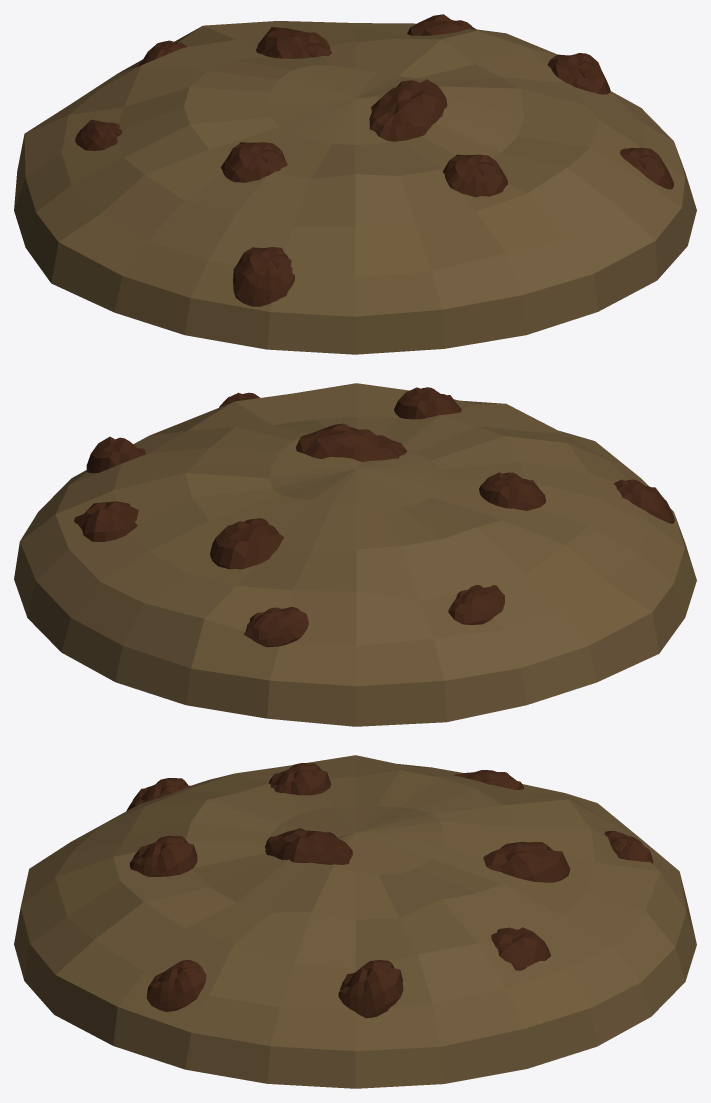
Rendered from LudumDareCookie 1.fbx.
3 views of the same model, one above another, from view 1: azimuth 30°, elevation 25°; view 2: azimuth 150°, elevation 25°; view 3: azimuth 270°, elevation 25° (orthographic).
Parts seen in each view (by area): view 1: Sphere.002, Sphere.001; view 2: Sphere.002, Sphere.001; view 3: Sphere.002, Sphere.001.
Part boxes in pixels (x1=…): Sphere.002: x1=14, y1=21, x2=696, y2=354; Sphere.001: x1=75, y1=14, x2=673, y2=306; Sphere.002: x1=14, y1=383, x2=696, y2=726; Sphere.001: x1=74, y1=387, x2=674, y2=647; Sphere.002: x1=14, y1=755, x2=696, y2=1088; Sphere.001: x1=126, y1=763, x2=653, y2=1018.
Bounding box in the file's own units: 11.56 × 2.35 × 11.41.
